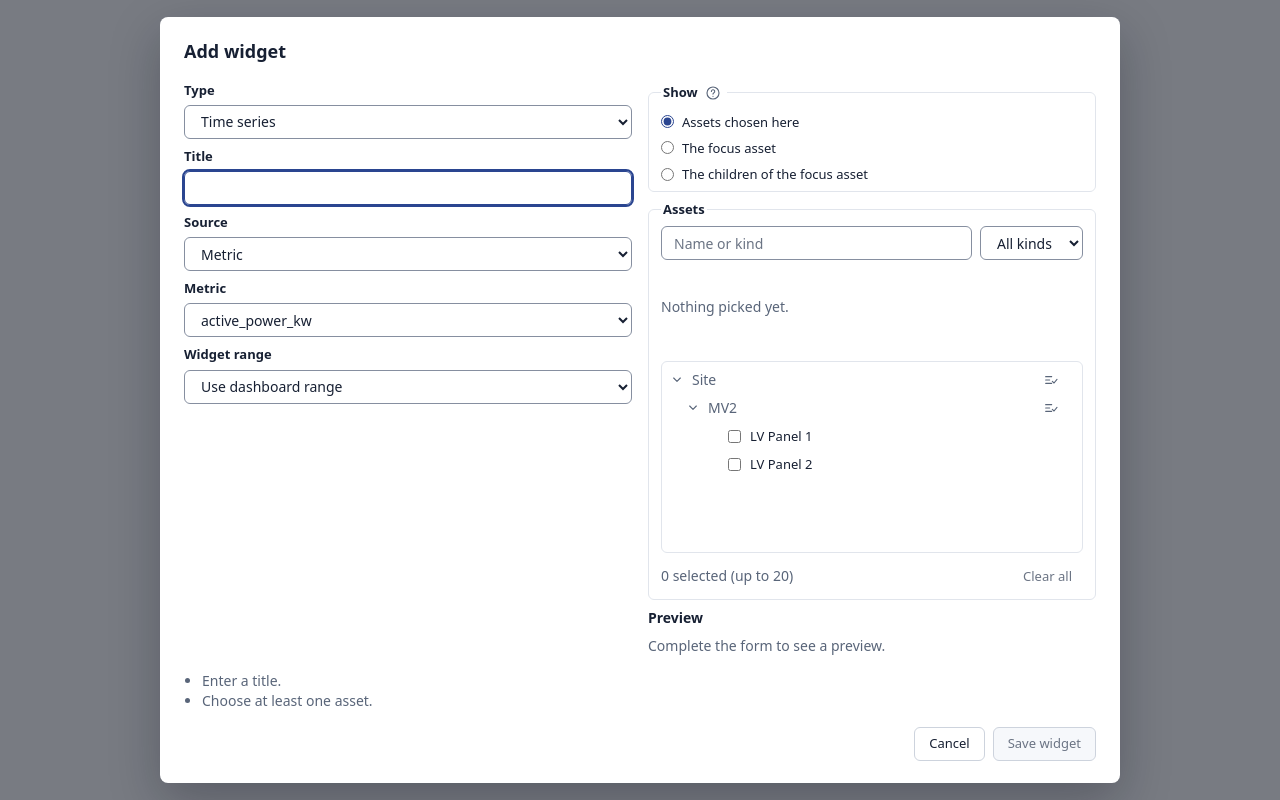
Scenario: which assets a metric widget may list › removes selected assets that lack the metric when the metric changes
Click the checkbox labelled "LV Panel 1". click: (734, 436)
box: left=728, top=430, right=741, bottom=443
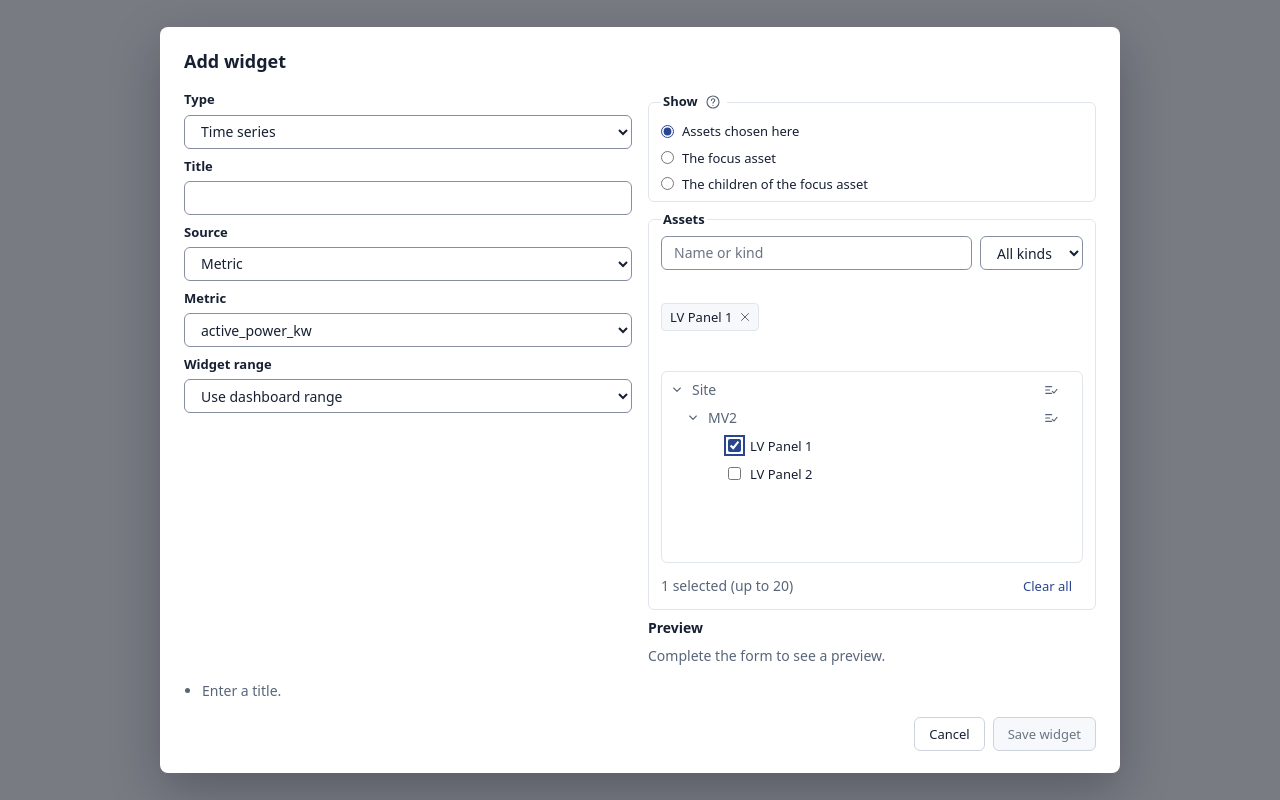
Click the checkbox labelled "LV Panel 2". click: (734, 474)
box: left=728, top=468, right=741, bottom=480
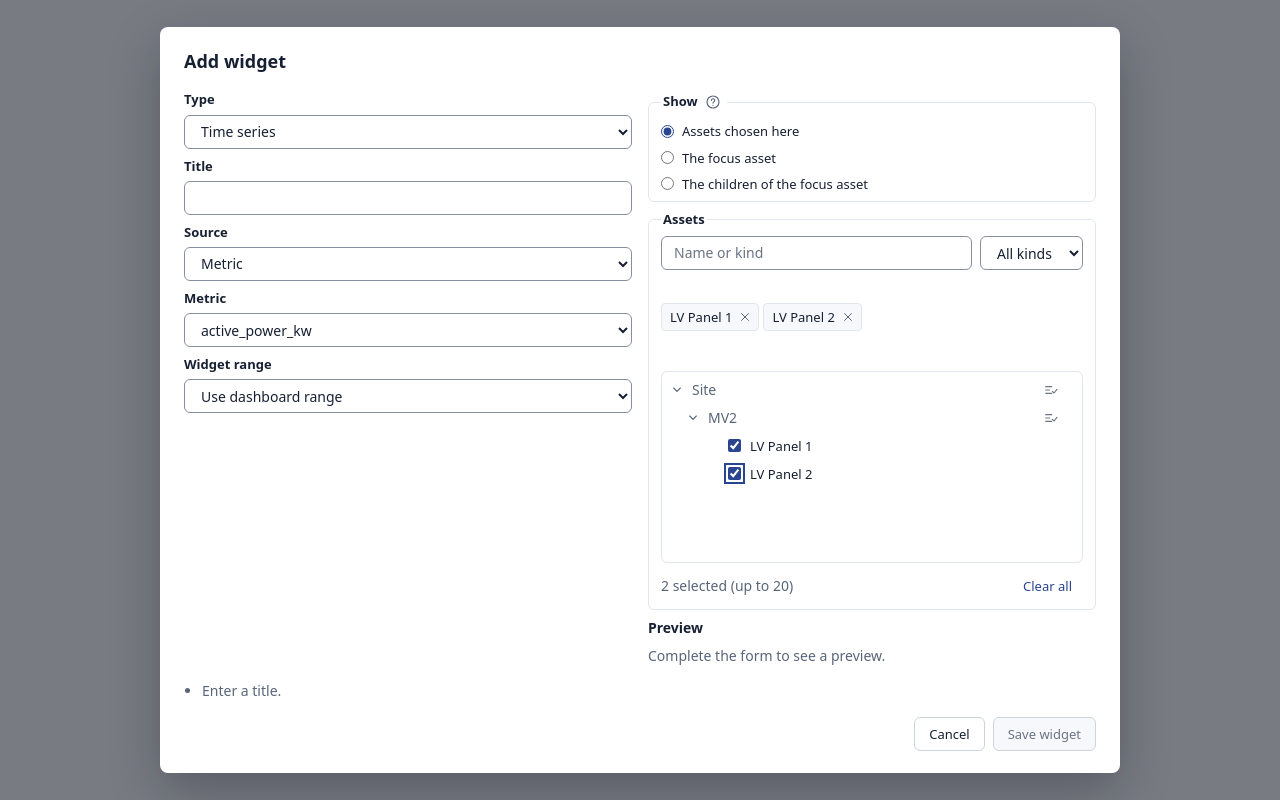
Now the text "2 selected (up to 20)" is shown, box left=661, top=576, right=793, bottom=596
Select "voltage_v" in the dropdown labelled "Metric". click: (408, 330)
box: left=184, top=313, right=632, bottom=347
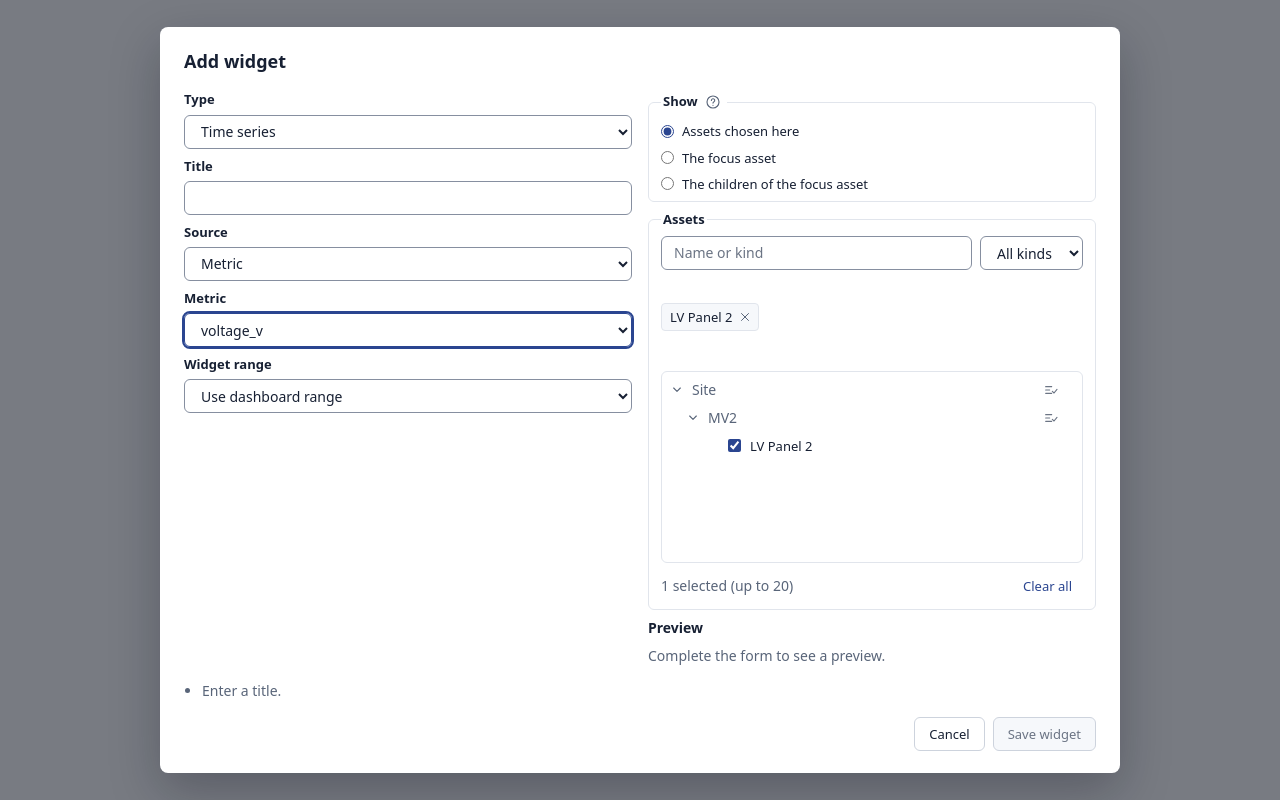
Now the checkbox labelled "LV Panel 2" is checked, box left=728, top=440, right=741, bottom=452
Now the text "LV Panel 1" is gone
Now the text "1 selected (up to 20)" is shown, box left=661, top=576, right=793, bottom=596
